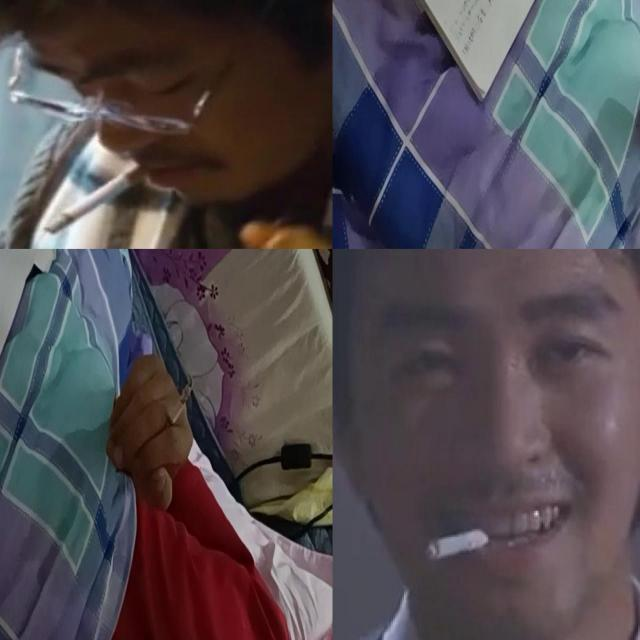cigarette: (42, 157, 162, 235), (424, 522, 499, 562), (164, 384, 192, 434)
